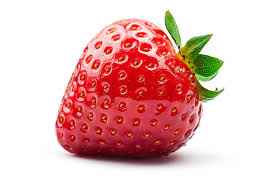strawberry: (54, 11, 225, 165)
